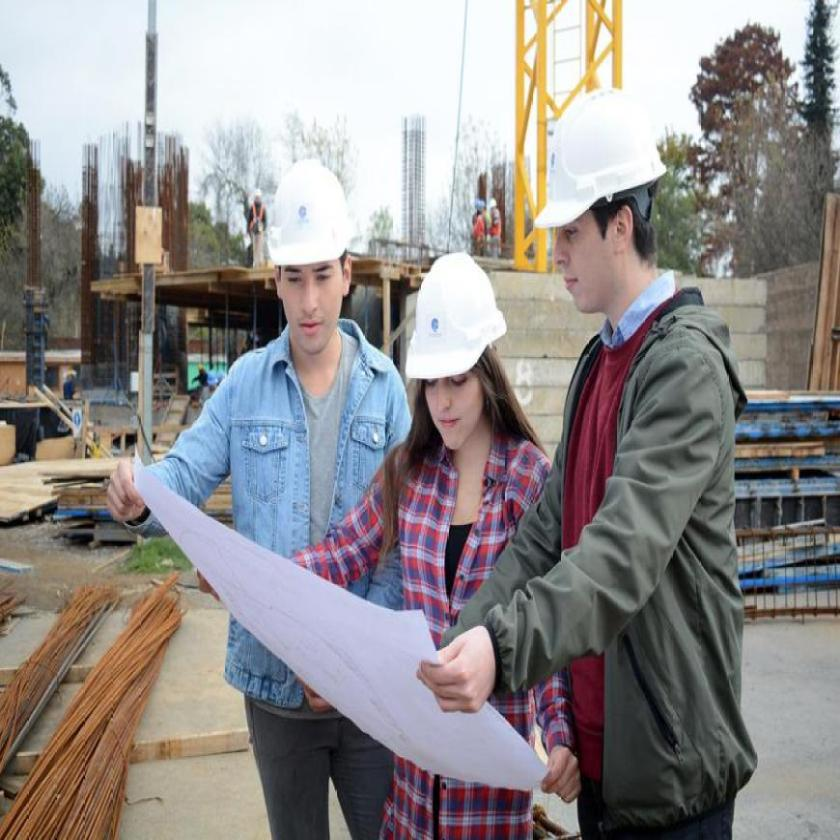Con_casco: (532, 86, 684, 341), (409, 252, 509, 464), (272, 157, 360, 357)
